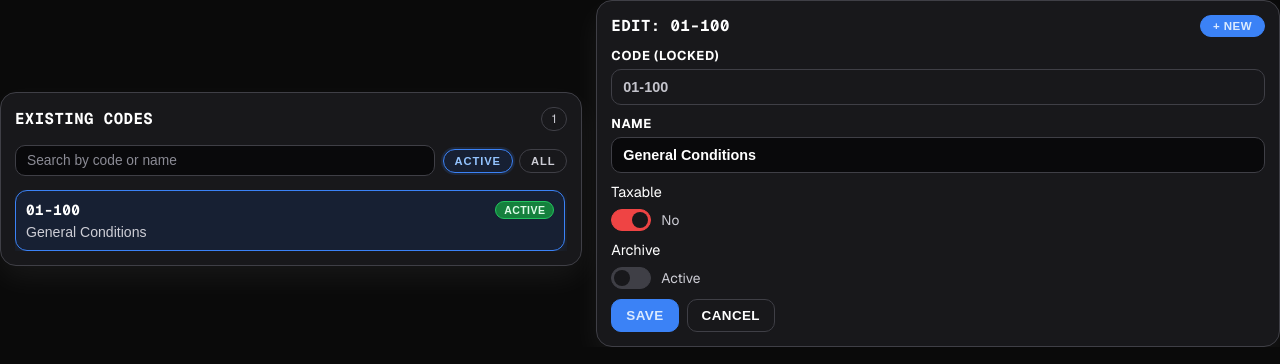
it: CostCodesConsole › filters by visibility (active vs all)
Expected: the text "01-100" is shown, top-left (26, 201), bottom-right (80, 219)
Expected: the text "99-999" is not shown
Click the button "All" at coordinates (543, 160), box top-left (519, 148), bottom-right (567, 172)
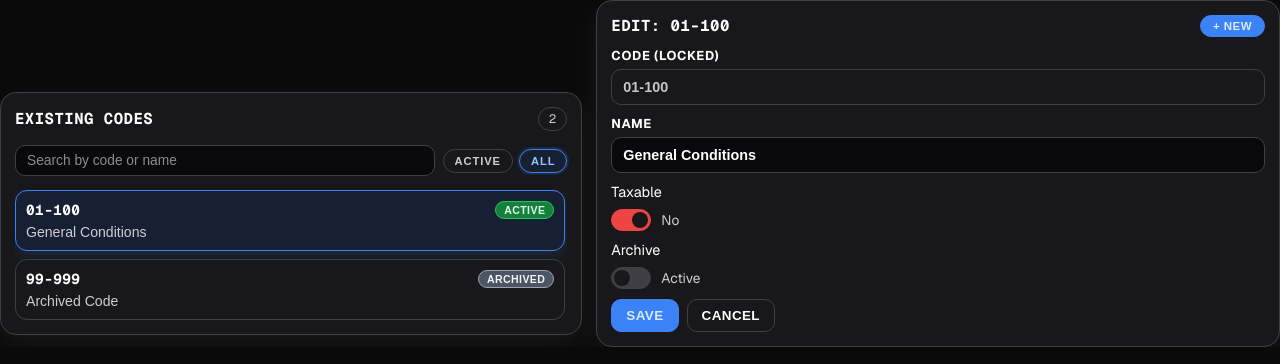
Result: the text "99-999" is shown at top-left (26, 270), bottom-right (80, 288)
